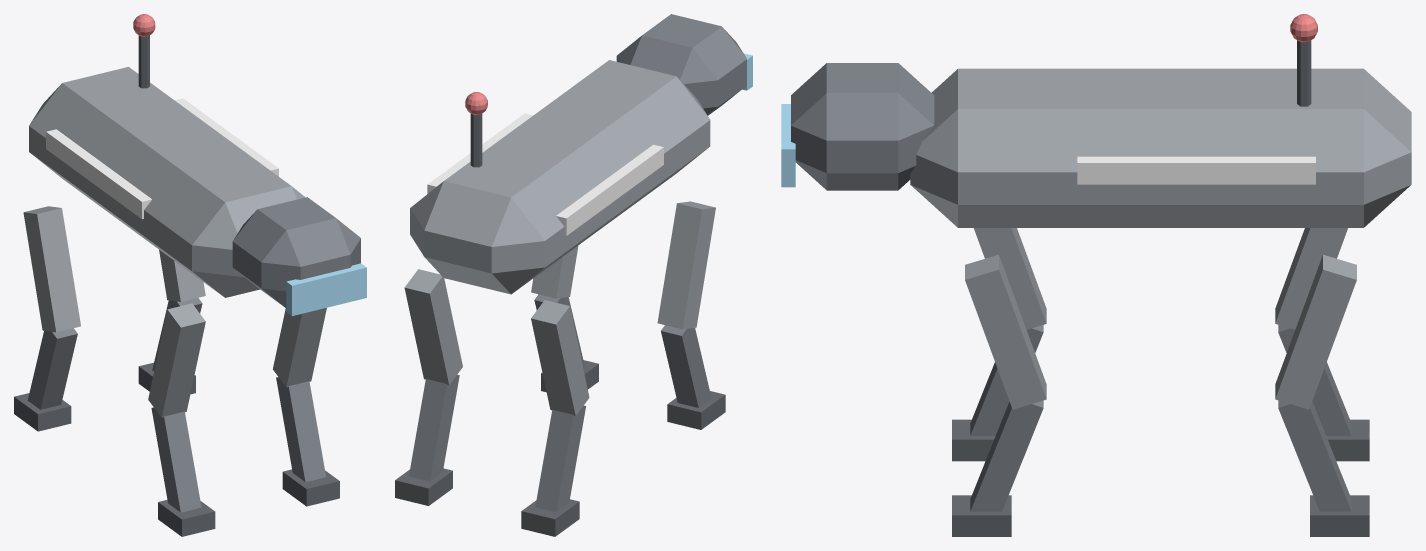
The model's file is robodog.glb.
3 views of the same model, side by side, from view 1: azimuth 30°, elevation 25°; view 2: azimuth 150°, elevation 25°; view 3: azimuth 270°, elevation 25° (orthographic). The views are drawn at different scales.
Parts seen in each view (by area): view 1: main; view 2: main; view 3: main.
Part boxes in pixels (x1=…): main: x1=14, y1=14, x2=366, y2=536; main: x1=395, y1=14, x2=752, y2=536; main: x1=781, y1=14, x2=1411, y2=536.
Bounding box in the file's own units: 0.19 × 0.452 × 0.528.
